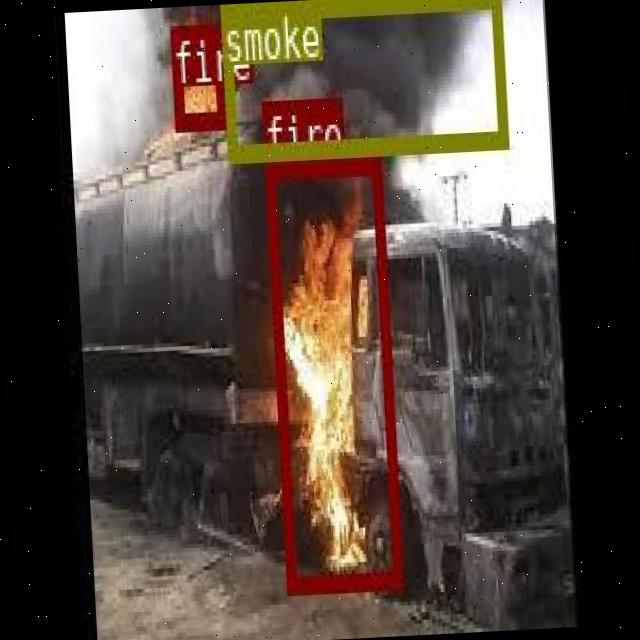fire: (264, 154, 402, 590), (170, 21, 226, 128)
smoke: (219, 0, 507, 156)
